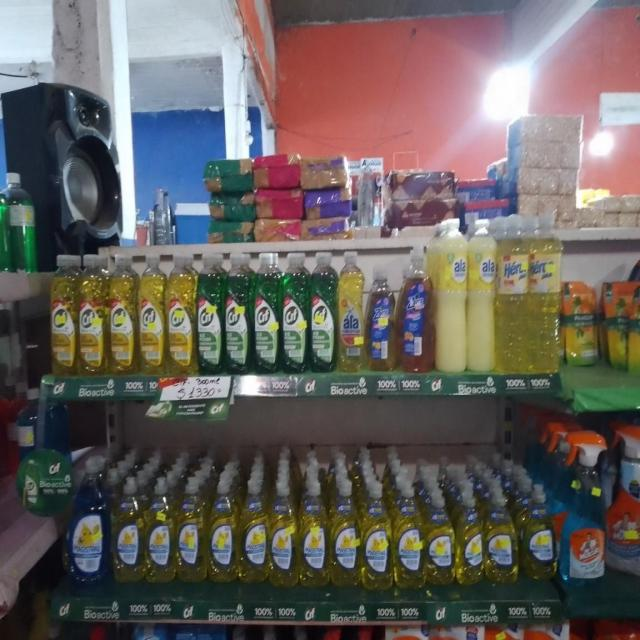ala_conc_amarillo: (338, 250, 366, 373)
ala_crem_amarillo: (434, 217, 466, 373), (468, 216, 495, 374)
cif_conc_bot_amarilla: (166, 254, 196, 376), (108, 254, 137, 376), (78, 254, 106, 376), (50, 253, 77, 378), (138, 253, 165, 375)
cif_conc_botella_verde: (252, 251, 280, 375), (281, 252, 308, 373), (225, 252, 251, 375), (310, 251, 336, 373), (197, 254, 223, 375)
heroe: (528, 213, 562, 374), (496, 213, 527, 374), (628, 286, 640, 371)
magistral_con_amarillo: (521, 482, 557, 582), (112, 475, 144, 584), (362, 478, 392, 592), (299, 475, 329, 589), (269, 472, 298, 589), (394, 479, 424, 591), (208, 474, 238, 584), (331, 477, 360, 589), (176, 476, 206, 584), (145, 476, 175, 584), (484, 489, 518, 584), (239, 475, 268, 585), (456, 489, 484, 587), (426, 492, 455, 586)
magistral_con_azul: (68, 457, 108, 589), (129, 622, 168, 640)
zorro: (398, 243, 433, 373), (367, 263, 396, 372)
